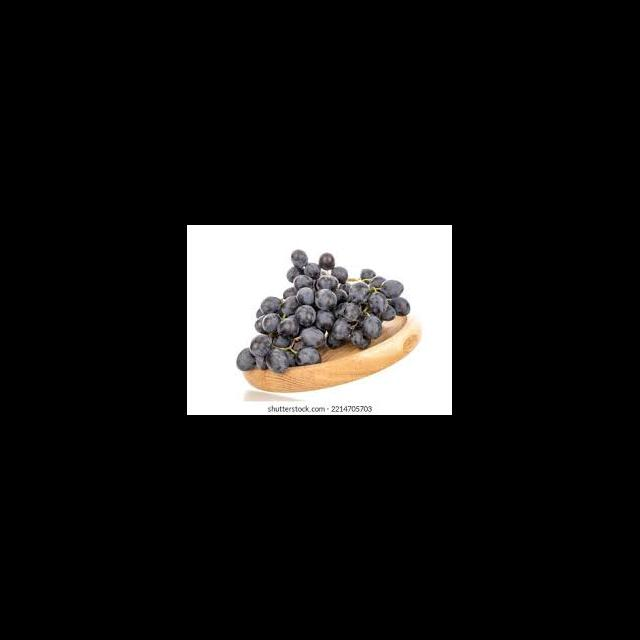grape: (237, 248, 410, 373)
